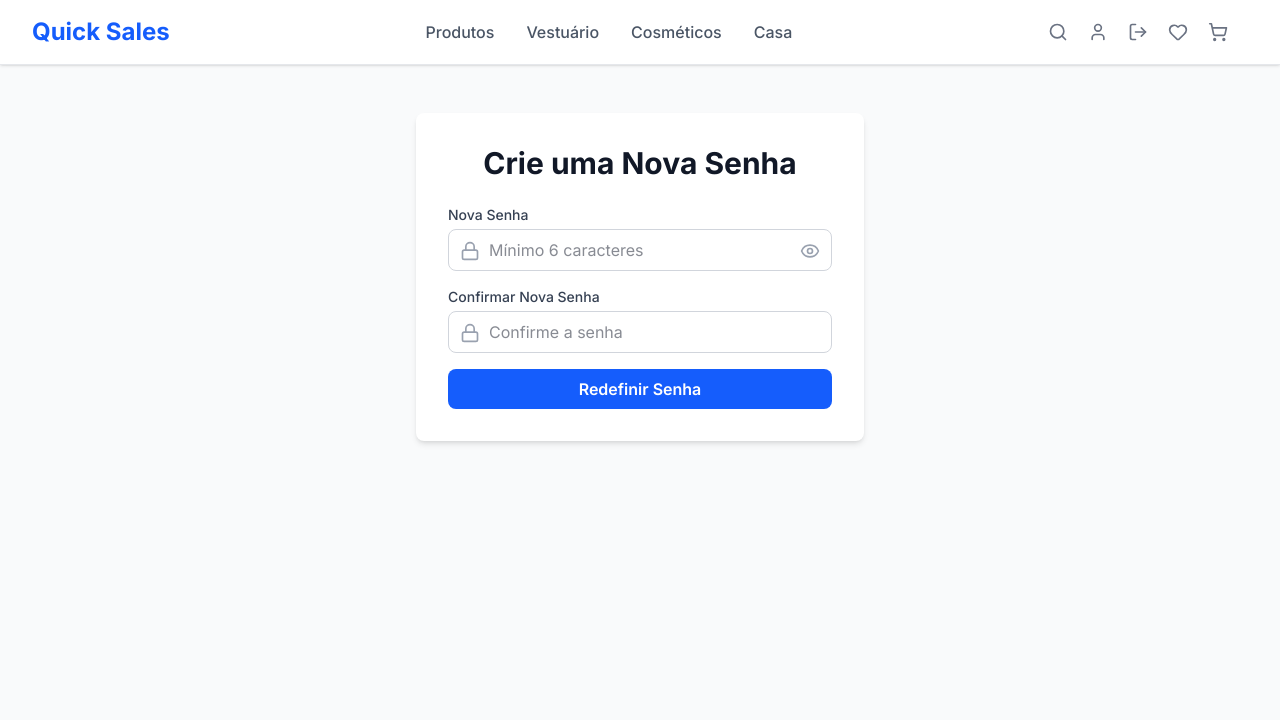
Test case: Reset Password Page › should show an error if passwords do not match
Type "password123" into the password field with placeholder "Mínimo 6 caracteres".
click(640, 250); type("password123")  # box x1=448 y1=229 x2=832 y2=271
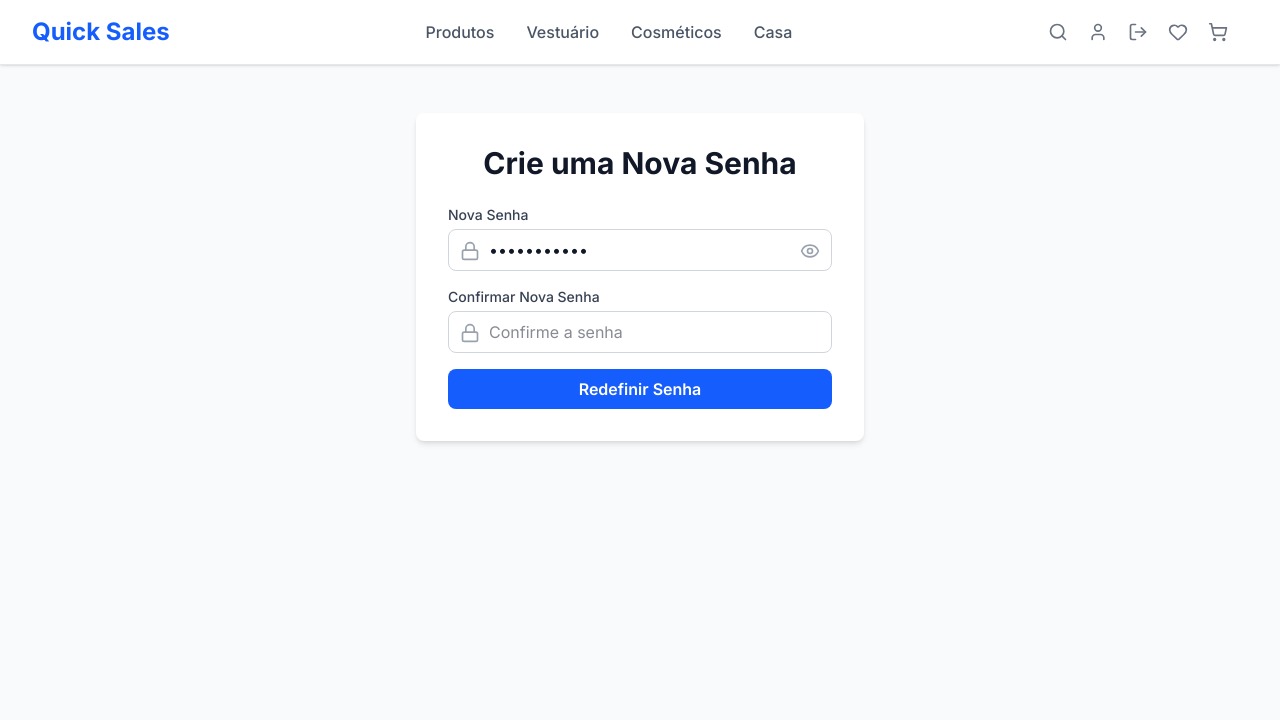
Type "password456" into the password field with placeholder "Confirme a senha".
click(640, 332); type("password456")  # box x1=448 y1=311 x2=832 y2=353
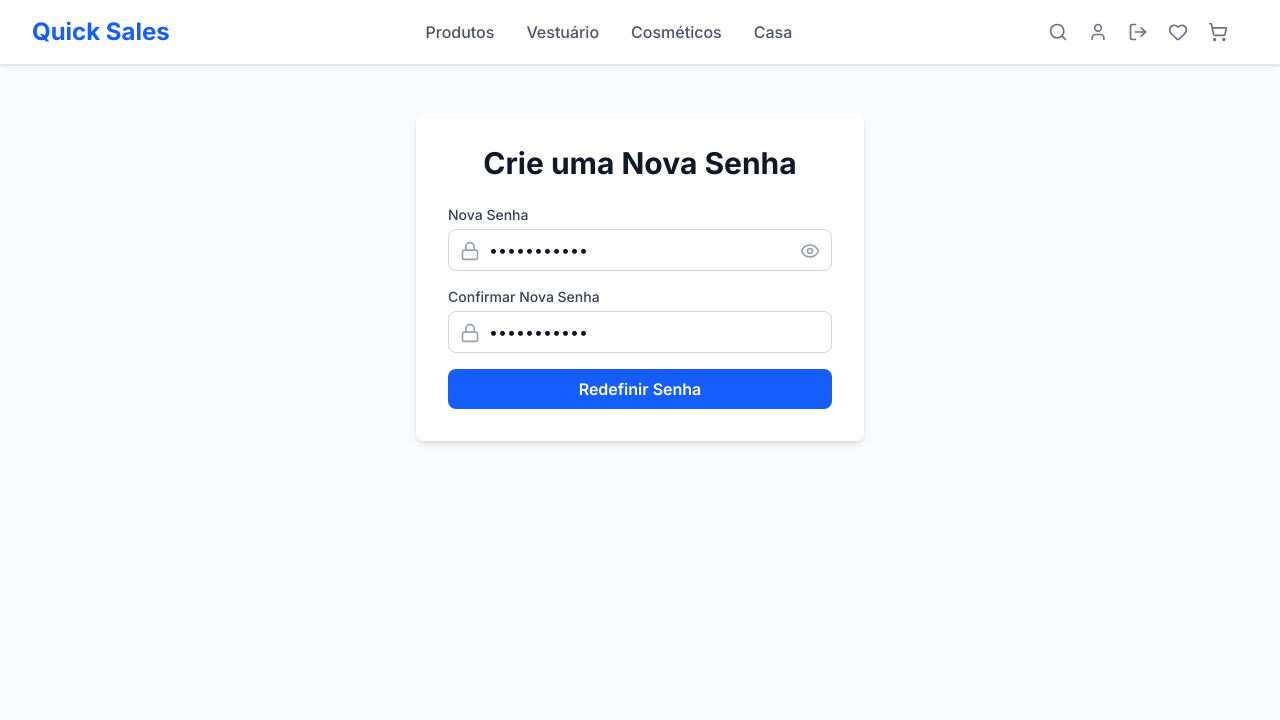
Click the button "Redefinir Senha".
click(640, 389)  # box x1=448 y1=369 x2=832 y2=409
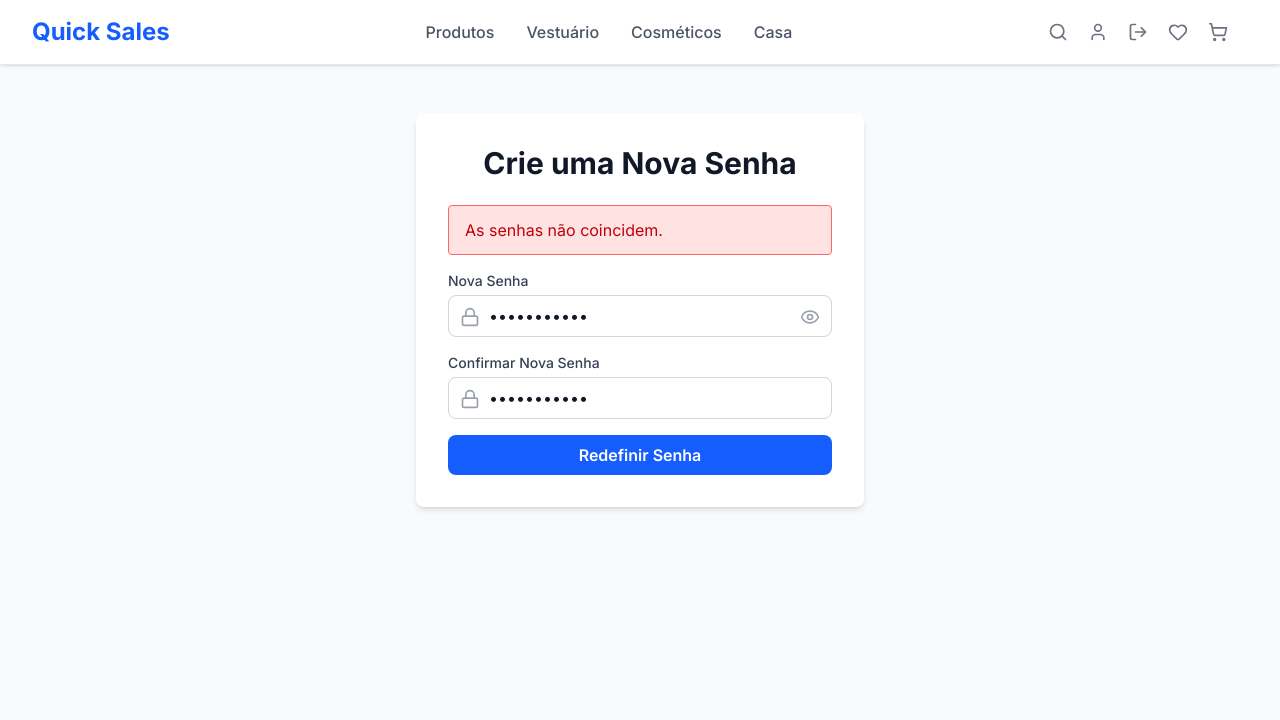
Expected: the text "As senhas não coincidem." is shown, x1=448 y1=205 x2=832 y2=255
